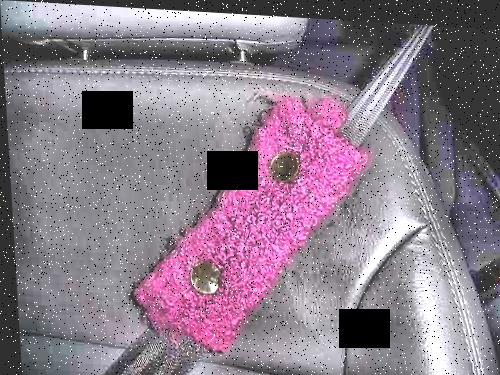seatbelt: (121, 23, 442, 363)
